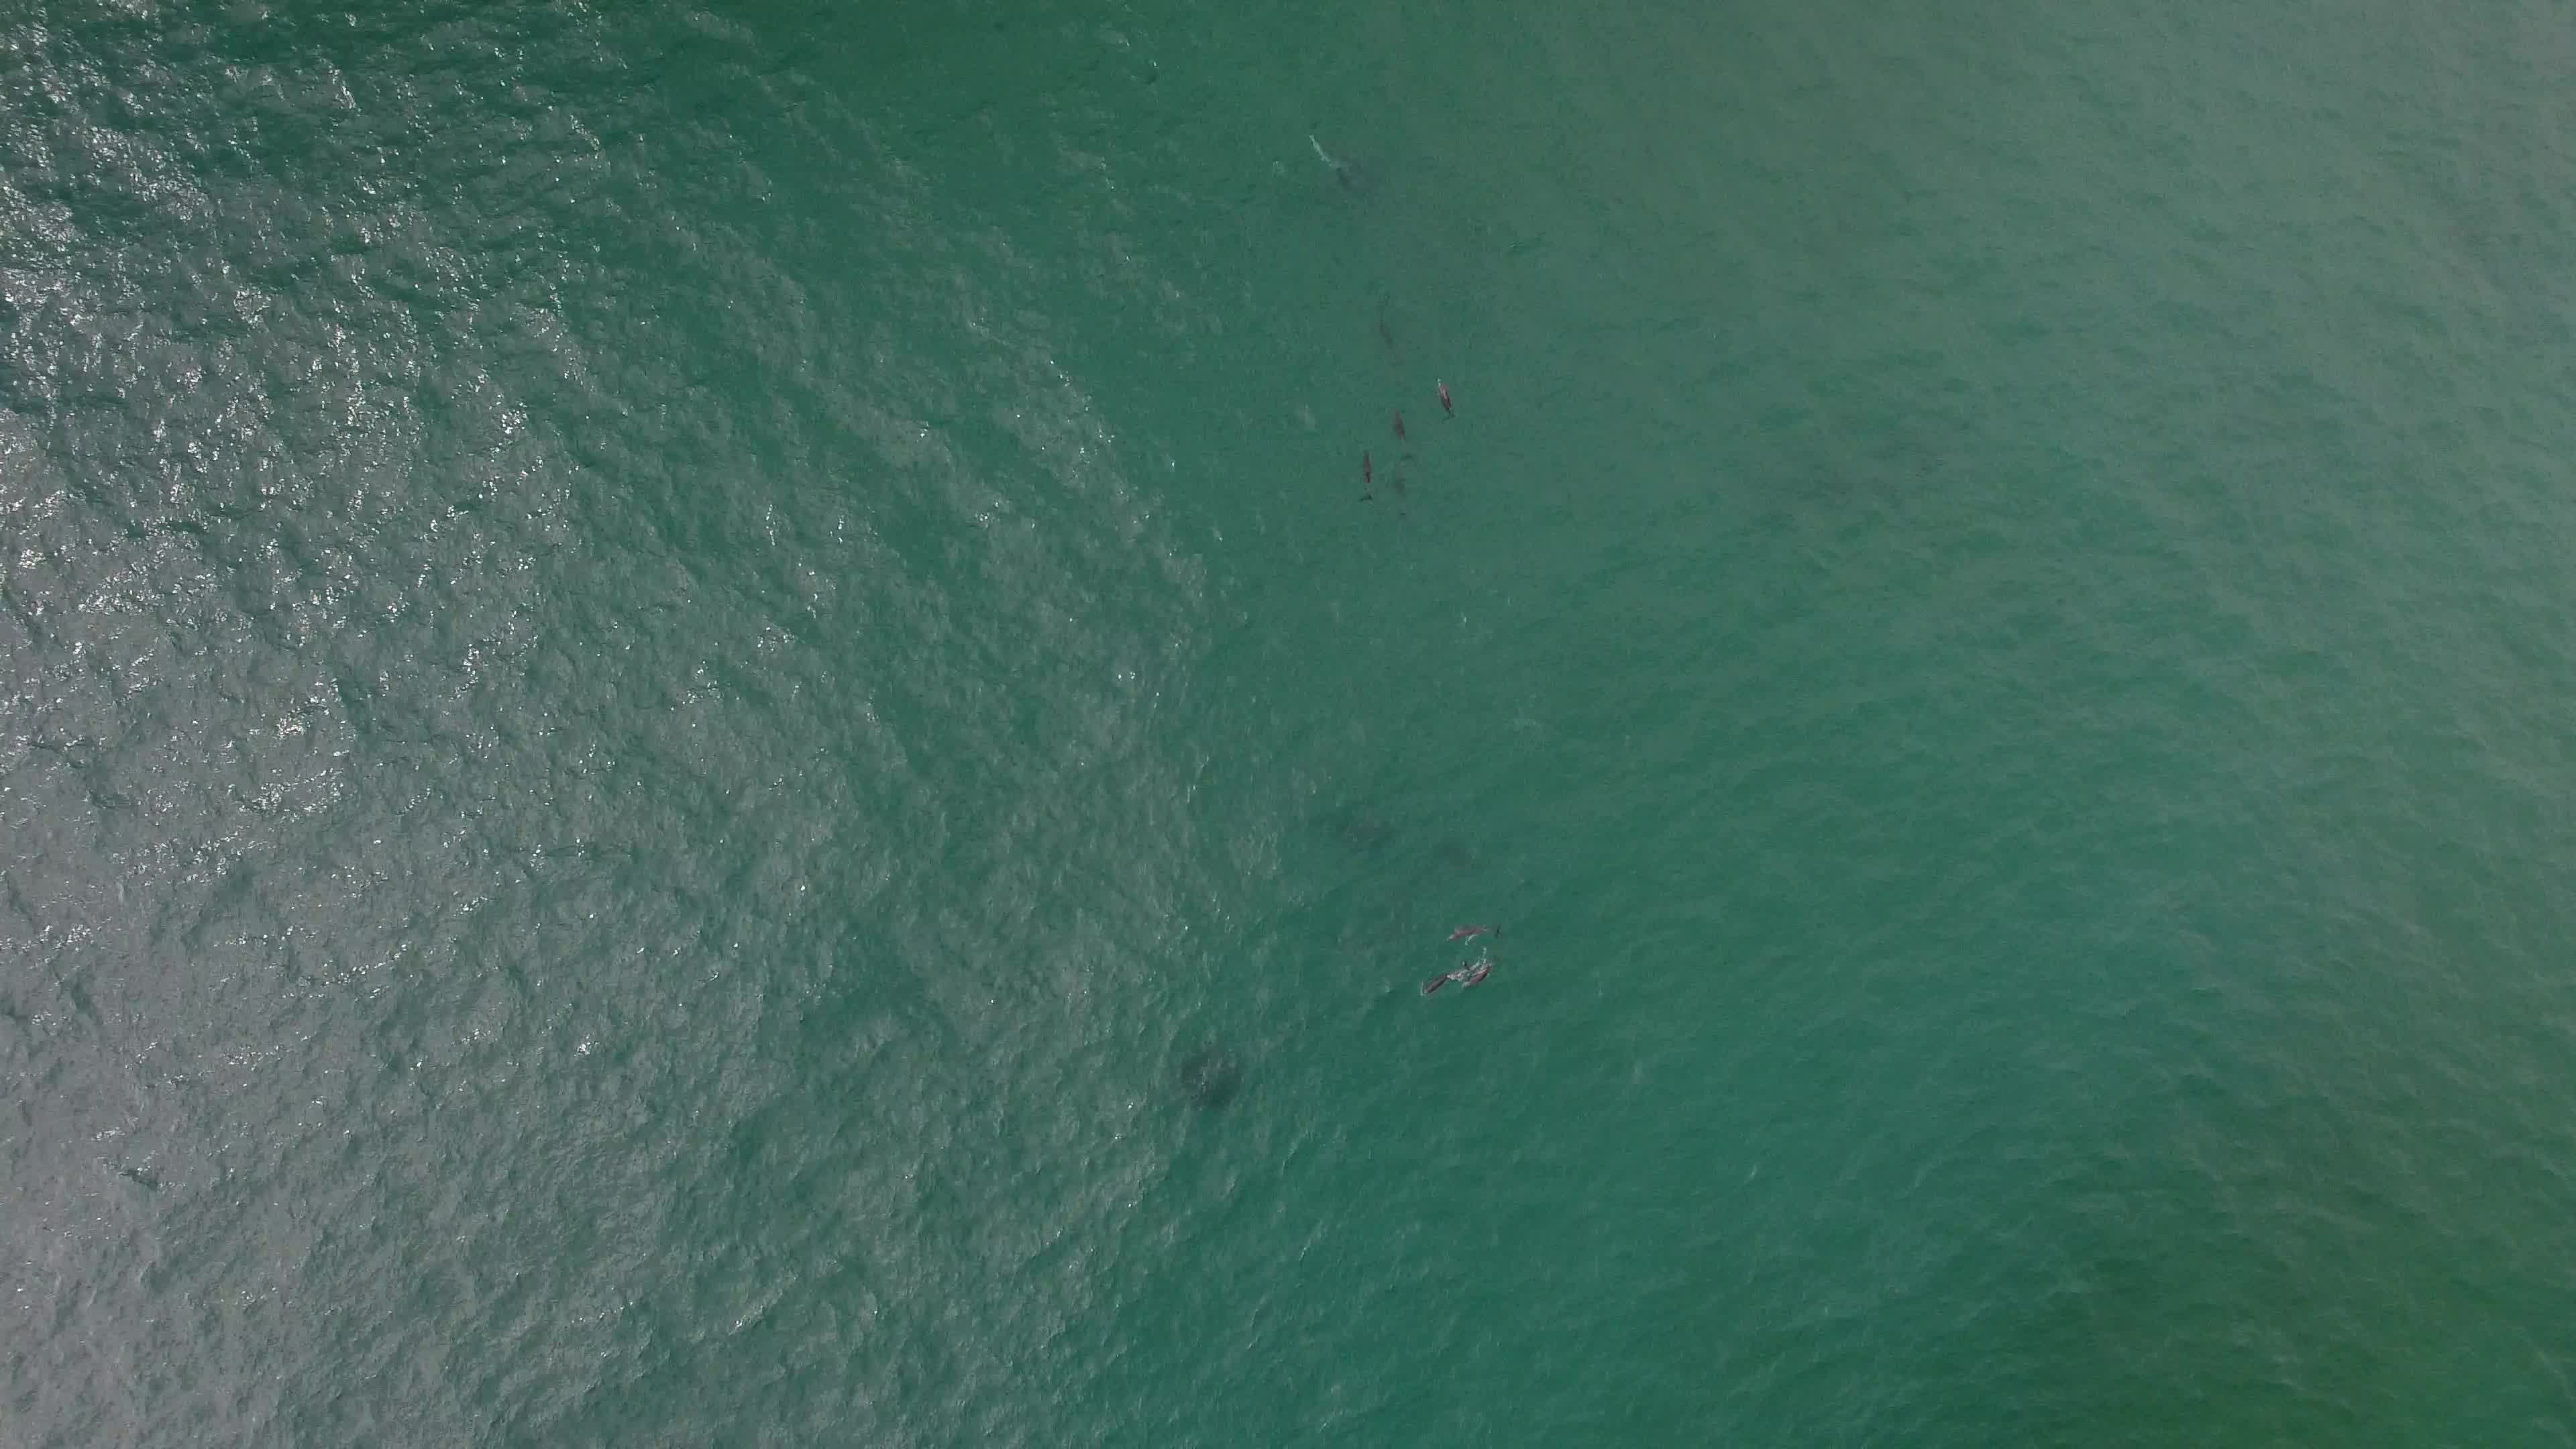dolphin: (1430, 911, 1509, 950), (1345, 439, 1382, 508), (1419, 368, 1463, 425), (1444, 954, 1502, 993), (1380, 400, 1415, 453), (1405, 962, 1453, 1000)
